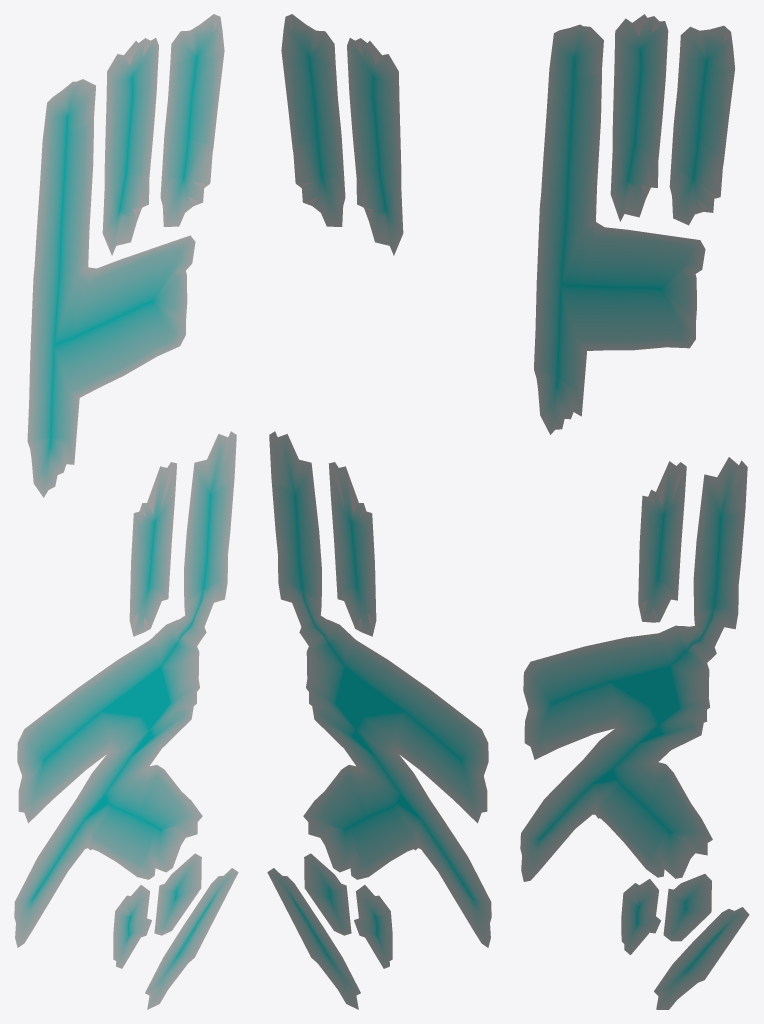
The model's file is SM_EFF_Text_D71NJ1_02.glb.
The picture shows the model from 3 angles, left to right: view 1: azimuth 30°, elevation 25°; view 2: azimuth 150°, elevation 25°; view 3: azimuth 330°, elevation 25°; orthographic projection. The views are drawn at different scales.
Parts seen in each view (by area): view 1: SM_EFF_Text_D71NJ1_02; view 2: SM_EFF_Text_D71NJ1_02; view 3: SM_EFF_Text_D71NJ1_02.
Boxes of the visible parts, x1,y1,x2,y2 form: SM_EFF_Text_D71NJ1_02: (14,14,238,1009); SM_EFF_Text_D71NJ1_02: (267,14,491,1009); SM_EFF_Text_D71NJ1_02: (520,14,749,1009).
Bounding box in the file's own units: 0.2292 × 0.9563 × 9.54e-09.
